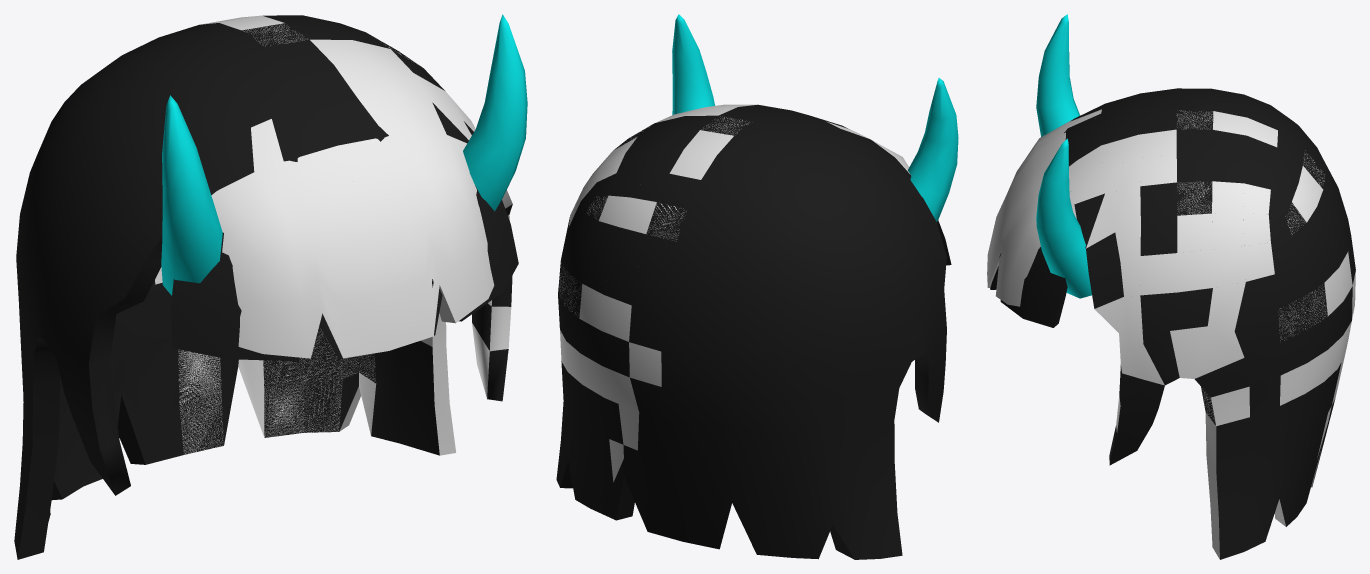
File: Clawsembly_Line_Character_Assets_Hair.fbx
3 views of the same model, side by side, from view 1: azimuth 30°, elevation 25°; view 2: azimuth 150°, elevation 25°; view 3: azimuth 270°, elevation 25° (orthographic). The views are drawn at different scales.
Parts seen in each view (by area): view 1: SM_Hair_06, SM_Hair_24; view 2: SM_Hair_06, SM_Hair_24; view 3: SM_Hair_06, SM_Hair_24.
Boxes of the visible parts, x1,y1,x2,y2 form: SM_Hair_06: (14, 15, 518, 559); SM_Hair_24: (155, 14, 527, 455); SM_Hair_06: (556, 104, 951, 559); SM_Hair_24: (558, 14, 958, 482); SM_Hair_06: (990, 88, 1355, 559); SM_Hair_24: (987, 14, 1355, 559).
Bounding box in the file's own units: 54.76 × 62.61 × 52.07.
